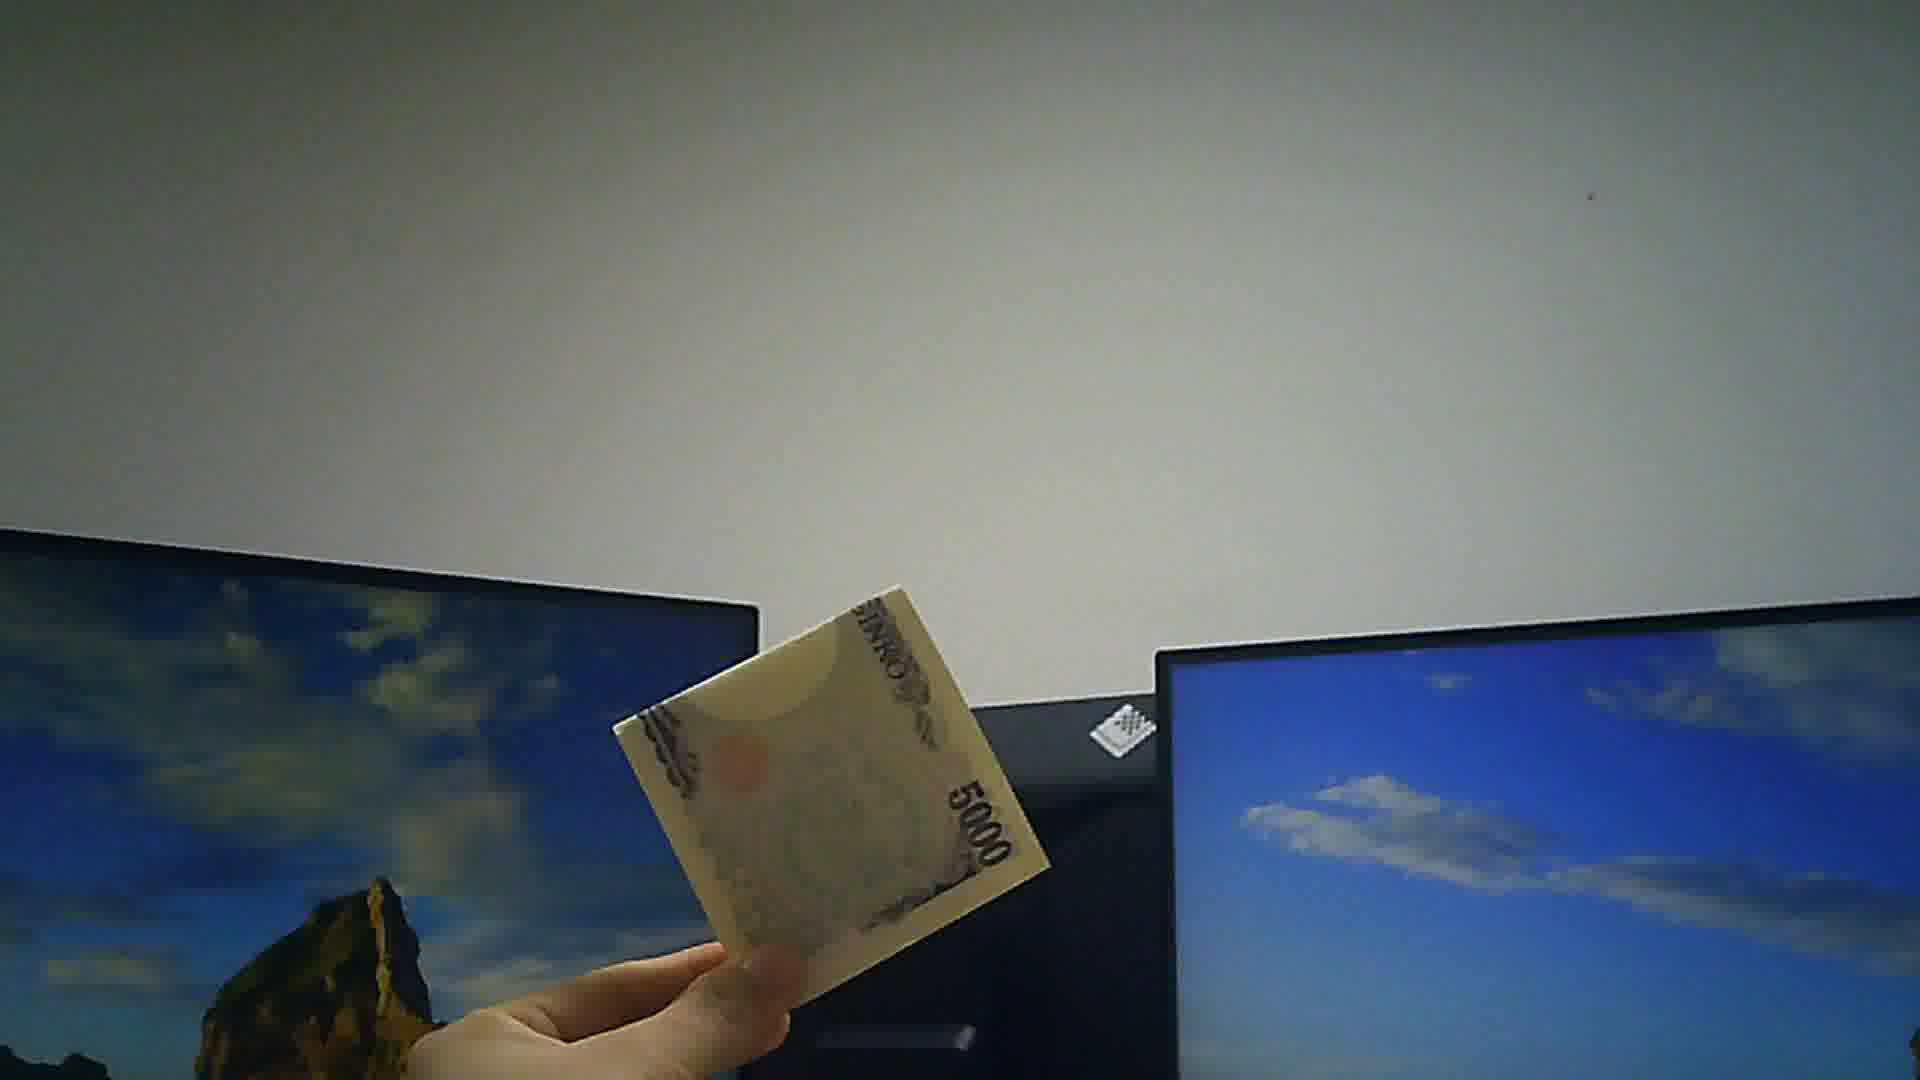5,000 Yen: (599, 568, 1056, 1011)
